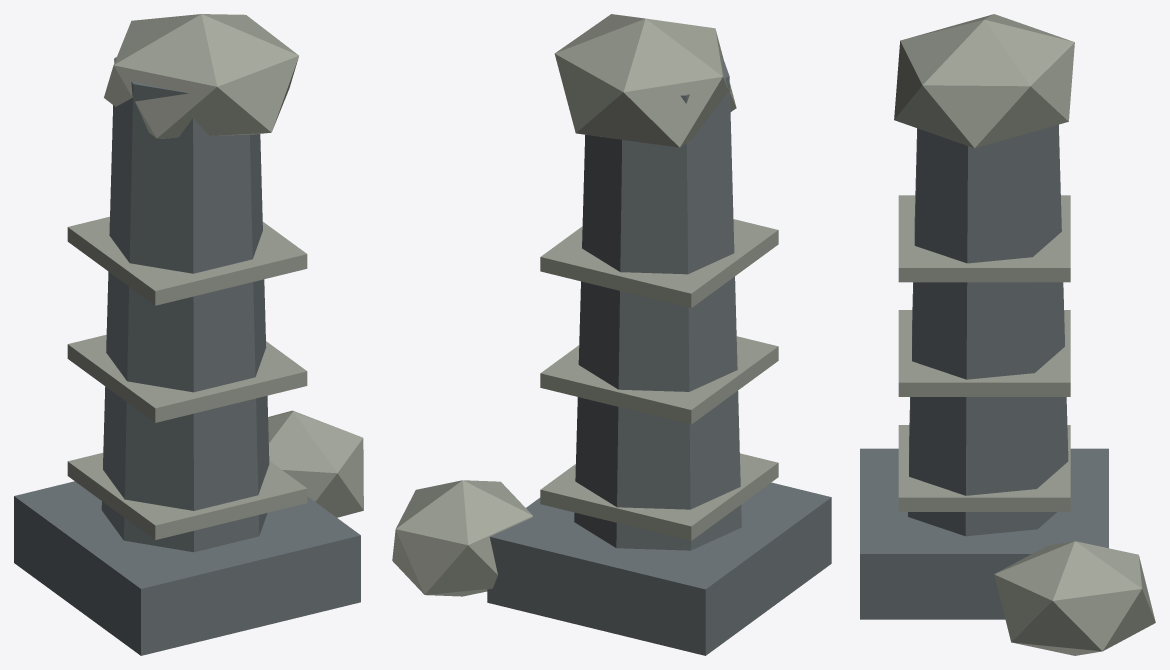
The model's file is BrokenPillar_B.fbx.
3 renders of one model, left to right at view 1: azimuth 30°, elevation 25°; view 2: azimuth 150°, elevation 25°; view 3: azimuth 270°, elevation 25°, orthographic. The views are drawn at different scales.
Visible parts, largest first — view 1: BrokenPillar_B; view 2: BrokenPillar_B; view 3: BrokenPillar_B.
Part boxes in pixels (<box>): BrokenPillar_B: <box>14,14,363,655</box>; BrokenPillar_B: <box>392,14,831,655</box>; BrokenPillar_B: <box>860,14,1155,655</box>.
Bounding box in the file's own units: 0.8795 × 1.53 × 0.7172.
Materials: 1 (1 with a texture image).
